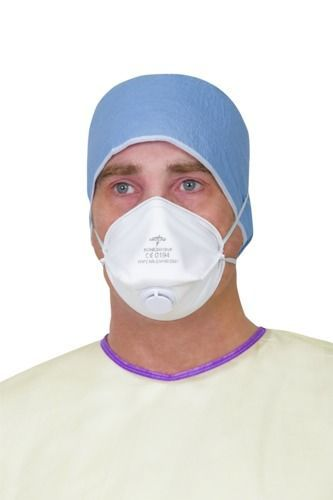with_mask: (111, 137, 231, 330)
